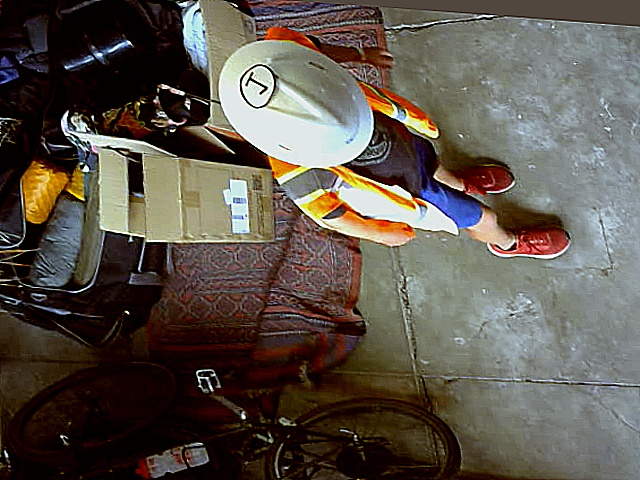one: (236, 63, 278, 109)
